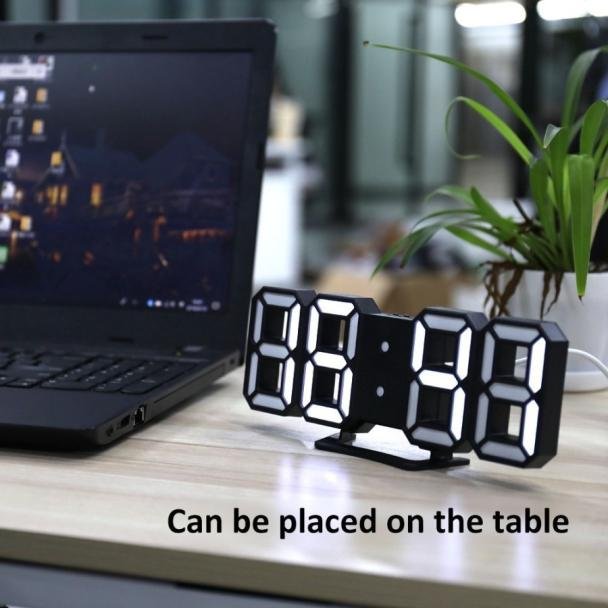Jam: (246, 286, 559, 465)
